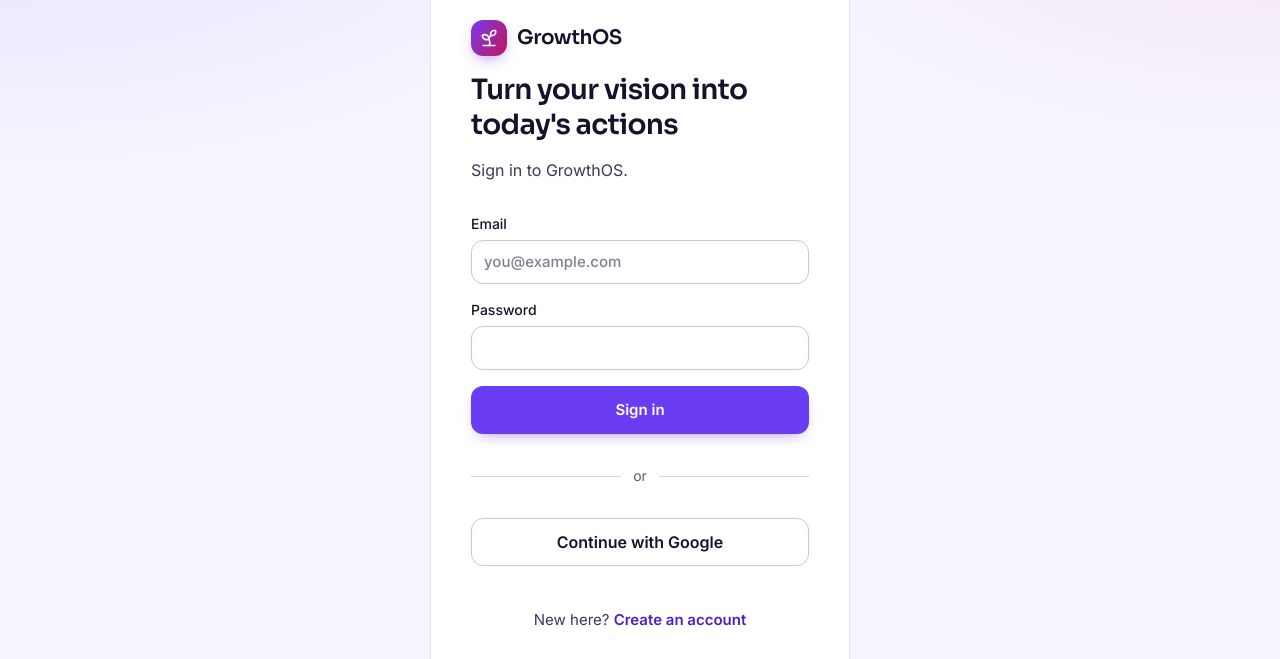
Scenario: routing and sign-in › signs in and opens Today
Type "me@example.com" into the field labelled "Email" at [640, 262], box [471,240,809,284]
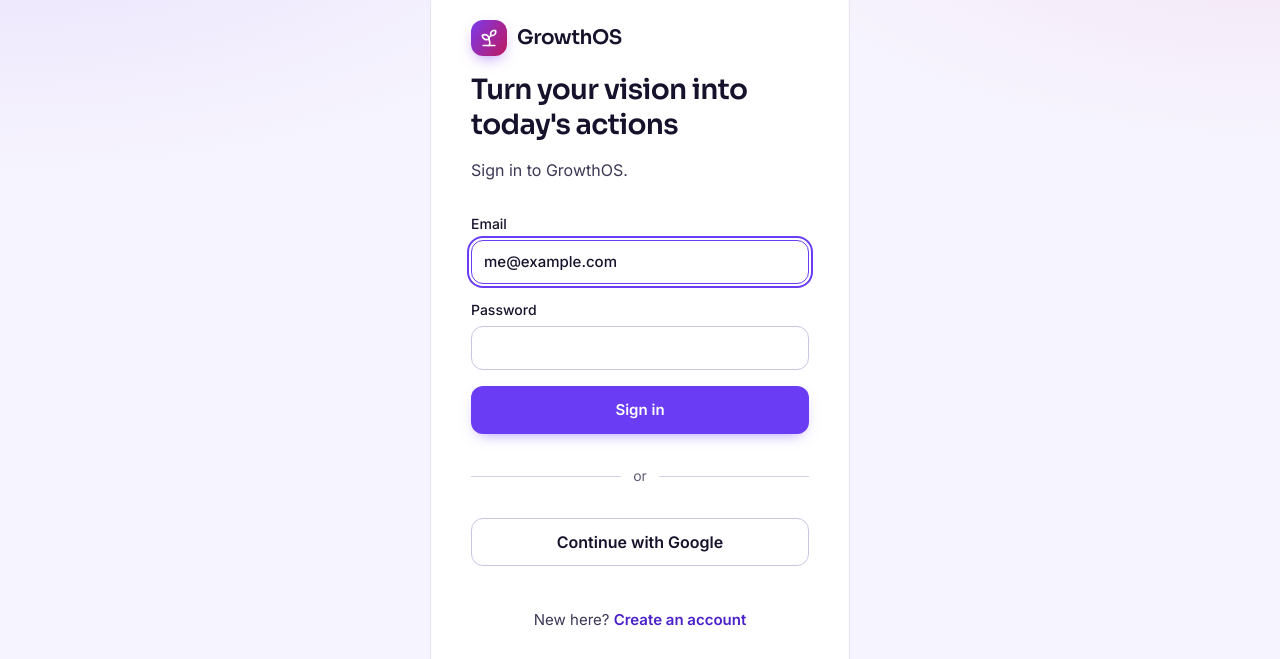
Type "correct-horse" into the password field labelled "Password" at [640, 348], box [471,326,809,370]
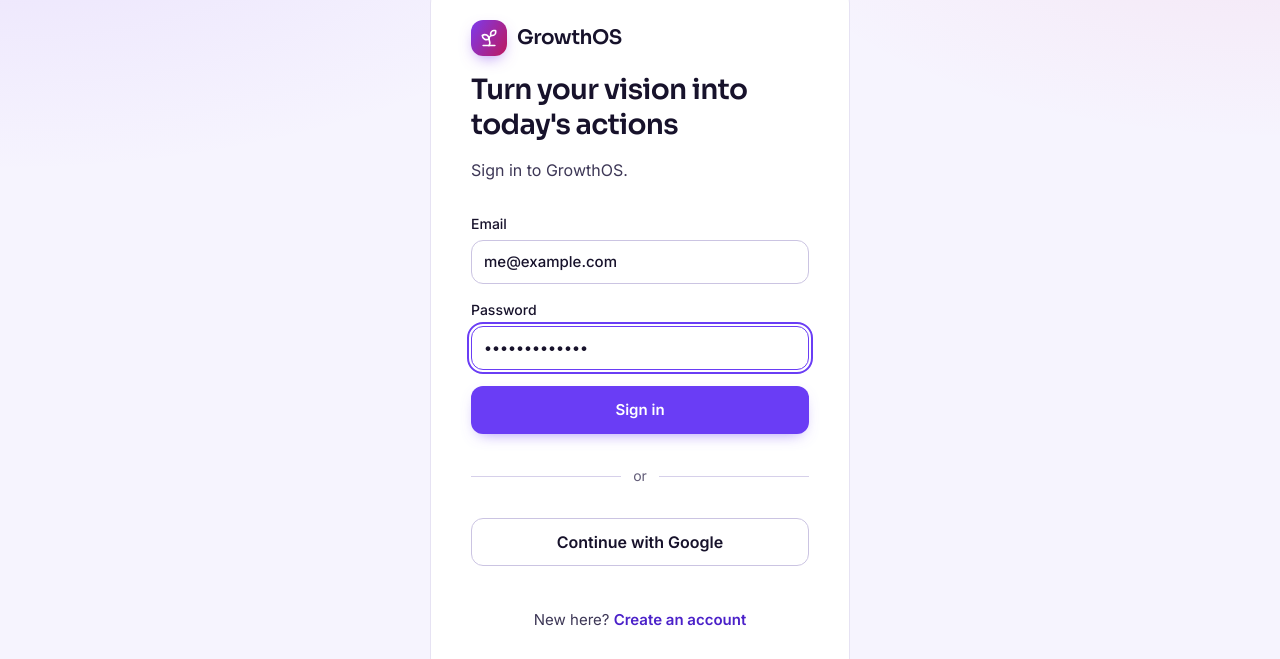
Click the button "Sign in" at [640, 410], box [471,386,809,434]
(page scrolled)
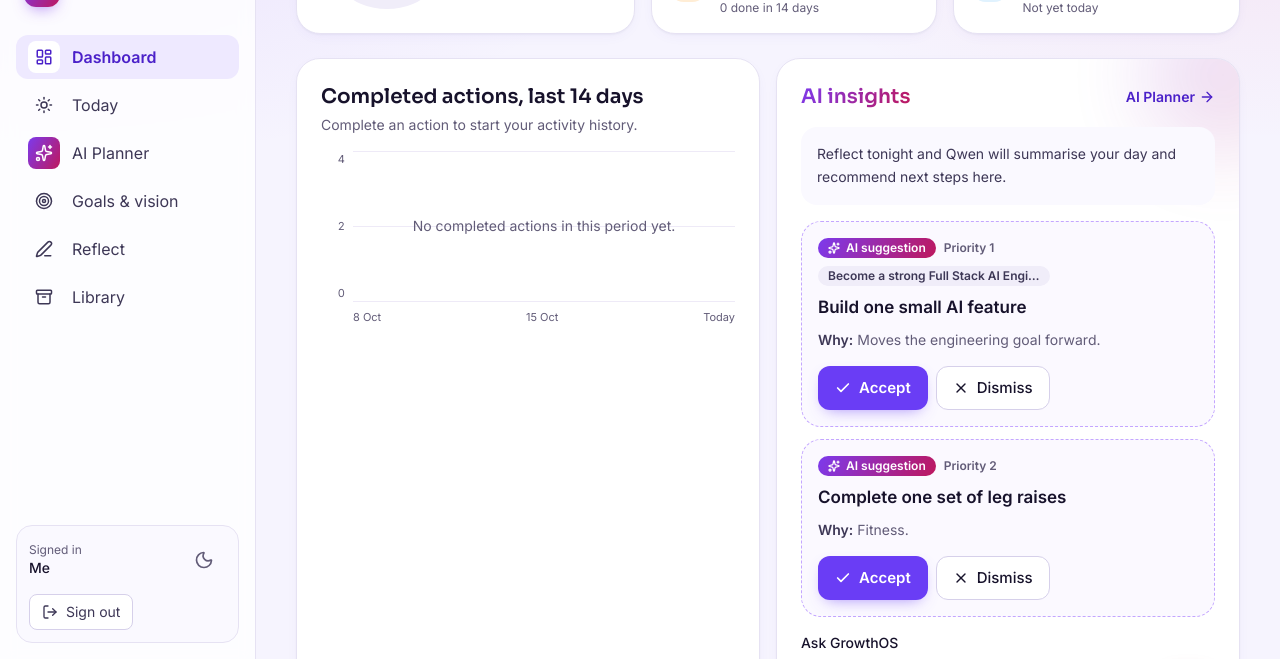
Expected: the heading "Build one small AI feature" is shown, [818,296,1026,316]
